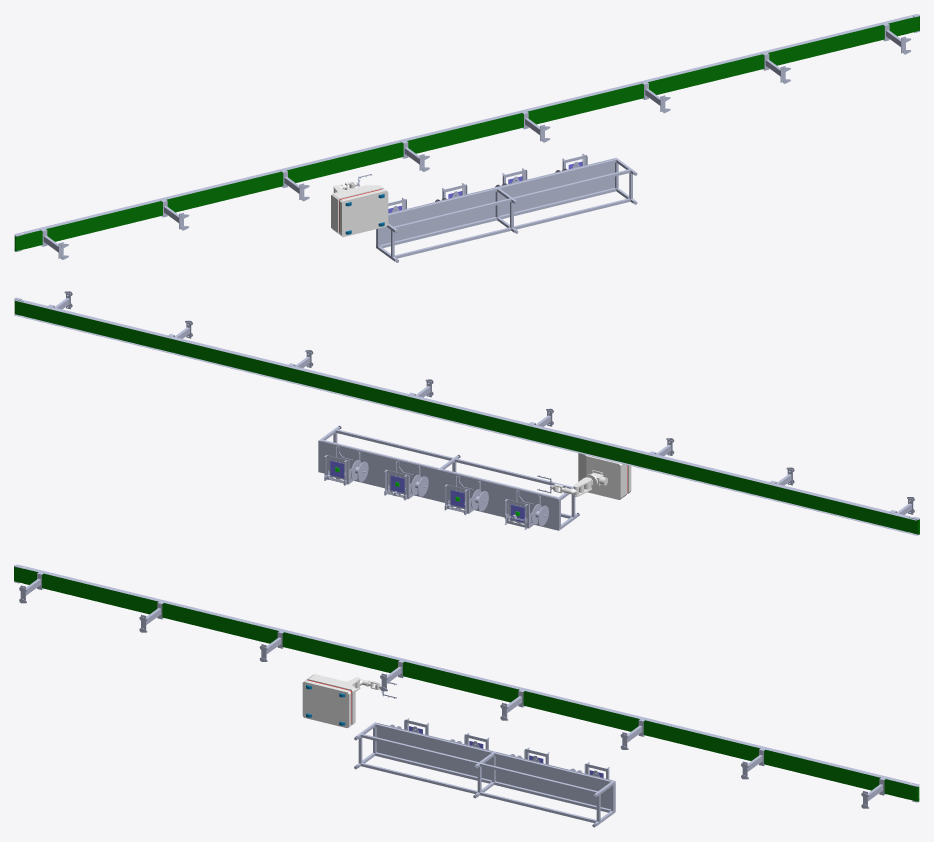
The picture shows the model from 3 angles, top to bottom: view 1: azimuth 30°, elevation 25°; view 2: azimuth 150°, elevation 25°; view 3: azimuth 330°, elevation 25°; orthographic projection.
Parts seen in each view (by area): view 1: M7 - 3DPA - P - Conveyor - 001--3\M7 - 3DPA - P - Conveyor -, M2 - 3DPA - P - 008--29\M2 - 3DPA - P - 008, M2 - 3DPA - P - 008--28\M2 - 3DPA - P - 008, 2020 - 3D Printer Assist - SA - AGV\2020 - 3D Printer Assist, M2 - 3DPA - P - 008--20\M2 - 3DPA - P - 008, M2 - 3DPA - P - 008--22\M2 - 3DPA - P - 008, M2 - 3DPA - P - 008--23\M2 - 3DPA - P - 008, M2 - 3DPA - P - 008--21\M2 - 3DPA - P - 008; view 2: M7 - 3DPA - P - Conveyor - 001--3\M7 - 3DPA - P - Conveyor -, M2 - 3DPA - P - 008--29\M2 - 3DPA - P - 008, 2020 - 3D Printer Assist - SA - AGV\2020 - 3D Printer Assist, M2 - 3DPA - P - 008--28\M2 - 3DPA - P - 008, M2 - 3DPA - P - 008--23\M2 - 3DPA - P - 008; view 3: M7 - 3DPA - P - Conveyor - 001--3\M7 - 3DPA - P - Conveyor -, M2 - 3DPA - P - 008--29\M2 - 3DPA - P - 008, M2 - 3DPA - P - 008--28\M2 - 3DPA - P - 008, 2020 - 3D Printer Assist - SA - AGV\2020 - 3D Printer Assist.
Part boxes in pixels (x1,y1,x2,y2): M7 - 3DPA - P - Conveyor - 001--3\M7 - 3DPA - P - Conveyor -: (14,14,919,251); M2 - 3DPA - P - 008--29\M2 - 3DPA - P - 008: (376,158,615,247); M2 - 3DPA - P - 008--28\M2 - 3DPA - P - 008: (376,158,635,261); 2020 - 3D Printer Assist - SA - AGV\2020 - 3D Printer Assist: (331,185,388,237); M2 - 3DPA - P - 008--20\M2 - 3DPA - P - 008: (394,227,511,258); M2 - 3DPA - P - 008--22\M2 - 3DPA - P - 008: (393,198,511,229); M2 - 3DPA - P - 008--23\M2 - 3DPA - P - 008: (513,169,630,200); M2 - 3DPA - P - 008--21\M2 - 3DPA - P - 008: (514,198,630,229); M7 - 3DPA - P - Conveyor - 001--3\M7 - 3DPA - P - Conveyor -: (14,297,919,535); M2 - 3DPA - P - 008--29\M2 - 3DPA - P - 008: (318,440,559,530); 2020 - 3D Printer Assist - SA - AGV\2020 - 3D Printer Assist: (578,453,631,499); M2 - 3DPA - P - 008--28\M2 - 3DPA - P - 008: (319,426,578,529); M2 - 3DPA - P - 008--23\M2 - 3DPA - P - 008: (335,429,453,460); M7 - 3DPA - P - Conveyor - 001--3\M7 - 3DPA - P - Conveyor -: (14,564,919,802); M2 - 3DPA - P - 008--29\M2 - 3DPA - P - 008: (375,722,615,811); M2 - 3DPA - P - 008--28\M2 - 3DPA - P - 008: (355,722,614,826); 2020 - 3D Printer Assist - SA - AGV\2020 - 3D Printer Assist: (302,674,355,727).
Bounding box in the file's own units: 15040 × 1021 × 1597.
